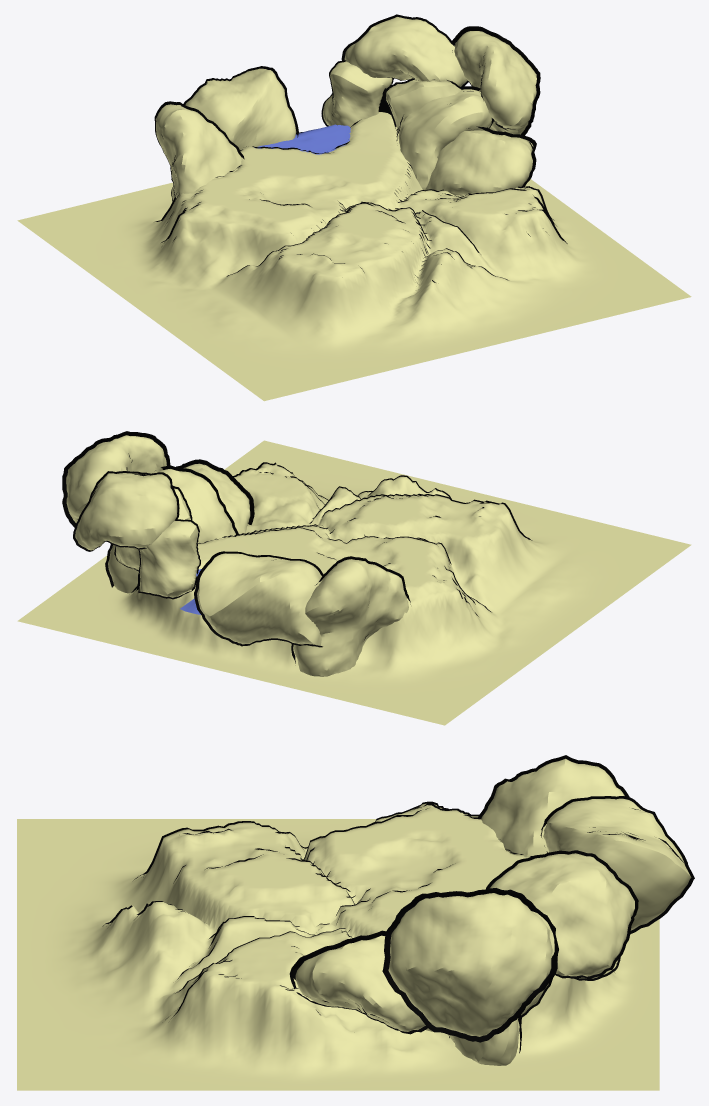
File: Environment_v1.fbx
The picture shows the model from 3 angles, top to bottom: view 1: azimuth 30°, elevation 25°; view 2: azimuth 150°, elevation 25°; view 3: azimuth 270°, elevation 25°; orthographic projection. The views are drawn at different scales.
Parts seen in each view (by area): view 1: Landscape_Main, rock.017, rock.011, rock.016, rock.015, rock.010, rock.001, rock.006, Landscape_Hull, rock.013, Mesh; view 2: Landscape_Main, rock.011, rock.010, rock.015, rock.017, rock.006, rock.001, rock.016, Landscape_Hull, rock.004, rock.002, rock.013; view 3: Landscape_Main, rock.017, rock.015, rock.011, rock.016, rock.010, Landscape_Hull, rock.001, rock.004, rock.002, rock.009.
Part boxes in pixels (x1,y1,x2,y2): Landscape_Main: [17, 112, 691, 401]; rock.017: [452, 26, 540, 135]; rock.011: [185, 68, 296, 151]; rock.016: [425, 126, 536, 196]; rock.015: [344, 17, 467, 86]; rock.010: [155, 104, 241, 200]; rock.001: [396, 86, 493, 190]; rock.006: [321, 60, 393, 127]; Landscape_Hull: [155, 119, 567, 283]; rock.013: [386, 80, 460, 133]; Mesh: [254, 124, 350, 154]; Landscape_Main: [17, 440, 691, 725]; rock.011: [197, 553, 323, 645]; rock.010: [294, 559, 408, 676]; rock.015: [75, 473, 177, 550]; rock.017: [62, 431, 170, 527]; rock.006: [138, 519, 200, 599]; rock.001: [105, 465, 238, 593]; rock.016: [176, 459, 254, 534]; Landscape_Hull: [131, 462, 532, 616]; rock.004: [194, 551, 324, 647]; rock.002: [73, 471, 179, 551]; rock.013: [115, 488, 190, 569]; Landscape_Main: [17, 803, 659, 1090]; rock.017: [382, 888, 558, 1042]; rock.015: [490, 853, 634, 976]; rock.011: [543, 798, 691, 930]; rock.016: [289, 930, 432, 1034]; rock.010: [481, 758, 624, 857]; Landscape_Hull: [102, 801, 614, 1019]; rock.001: [448, 1015, 521, 1065]; rock.004: [540, 796, 694, 933]; rock.002: [486, 850, 638, 978]; rock.009: [477, 755, 629, 819].
Size of the model in its own units: 9112 by 3270 by 9205.
